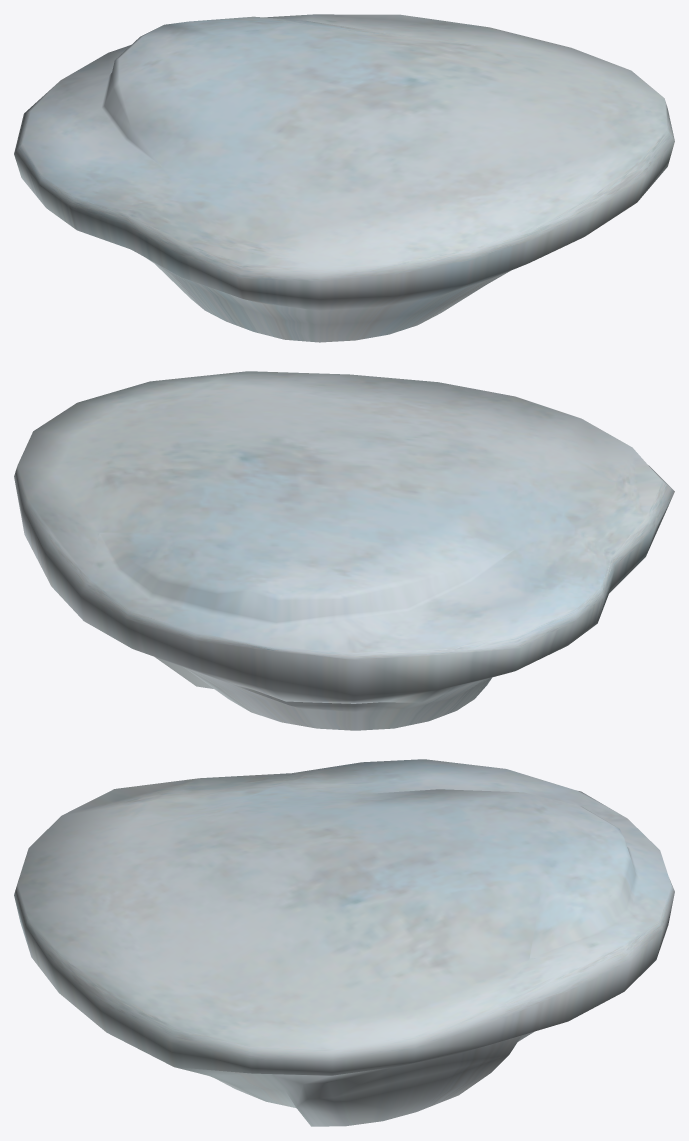
Rendered from P_RockDesert_CliffHalf06.obj.
3 renders of one model, top to bottom at view 1: azimuth 30°, elevation 25°; view 2: azimuth 150°, elevation 25°; view 3: azimuth 270°, elevation 25°, orthographic. The views are drawn at different scales.
Size of the model in its own units: 64.19 by 22.67 by 60.75.
